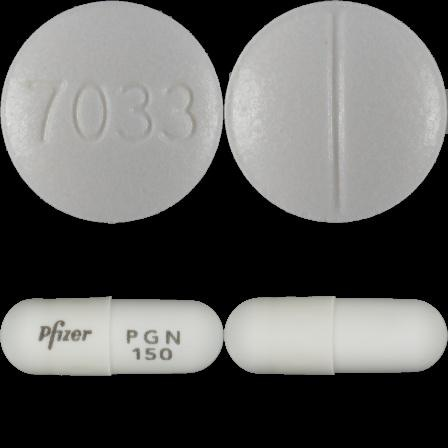54868-5446: (0, 0, 224, 224)
